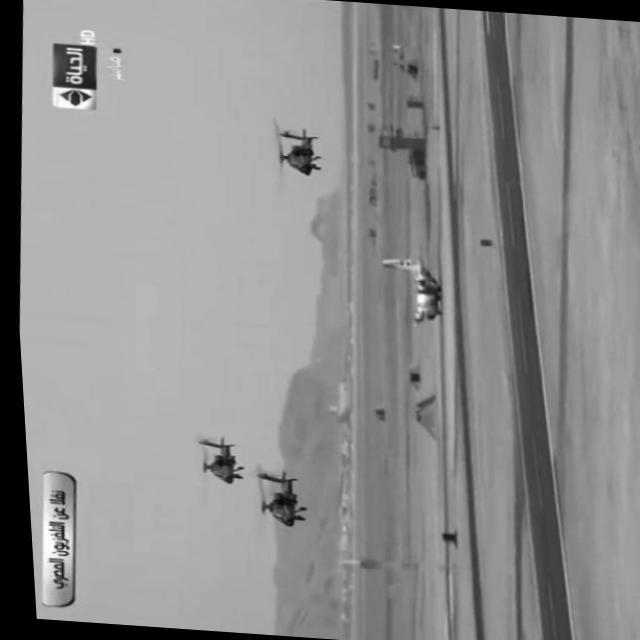helikopter: (228, 104, 348, 192), (162, 416, 244, 497), (235, 456, 304, 536)
